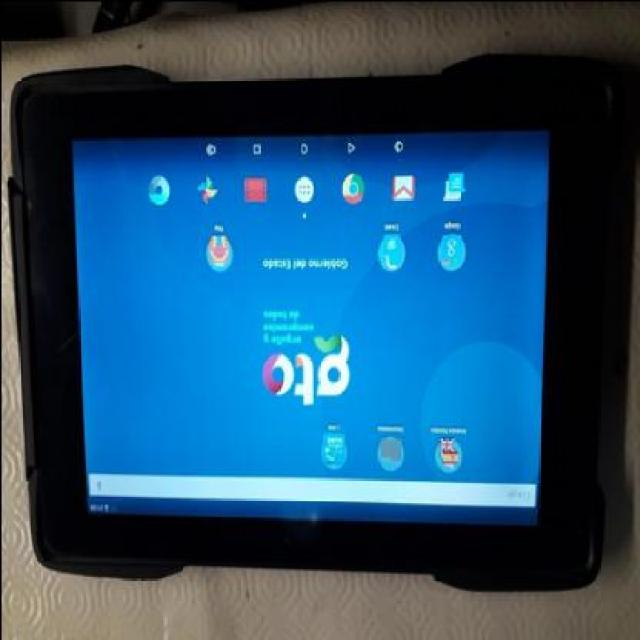tablet: (14, 24, 633, 602)
